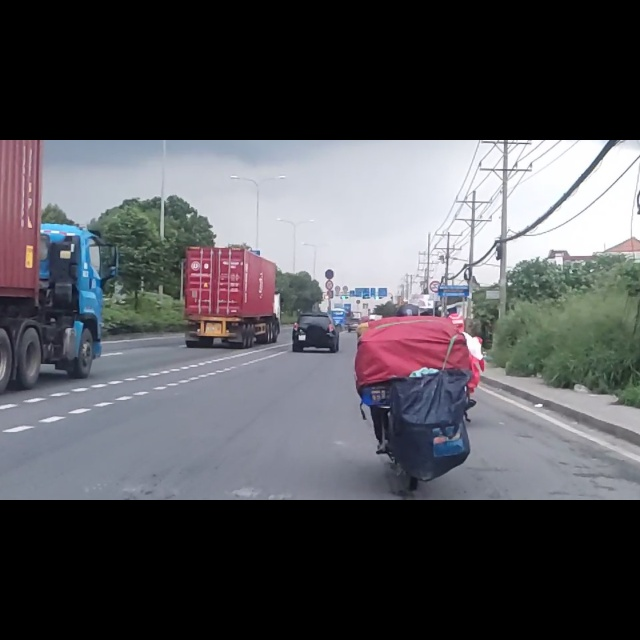bien_cam: (429, 250, 441, 271), (324, 228, 335, 247)
